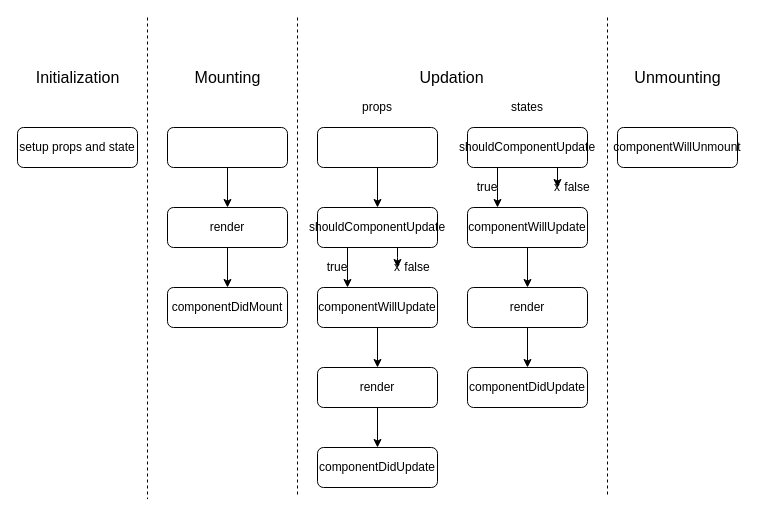
This 758x518 diagram has some shape labels left out. The centre of each missing label's shape, as x and y in pixels:
componentWillMount: point 227,147
componentWillReceiveProps: point 377,147
